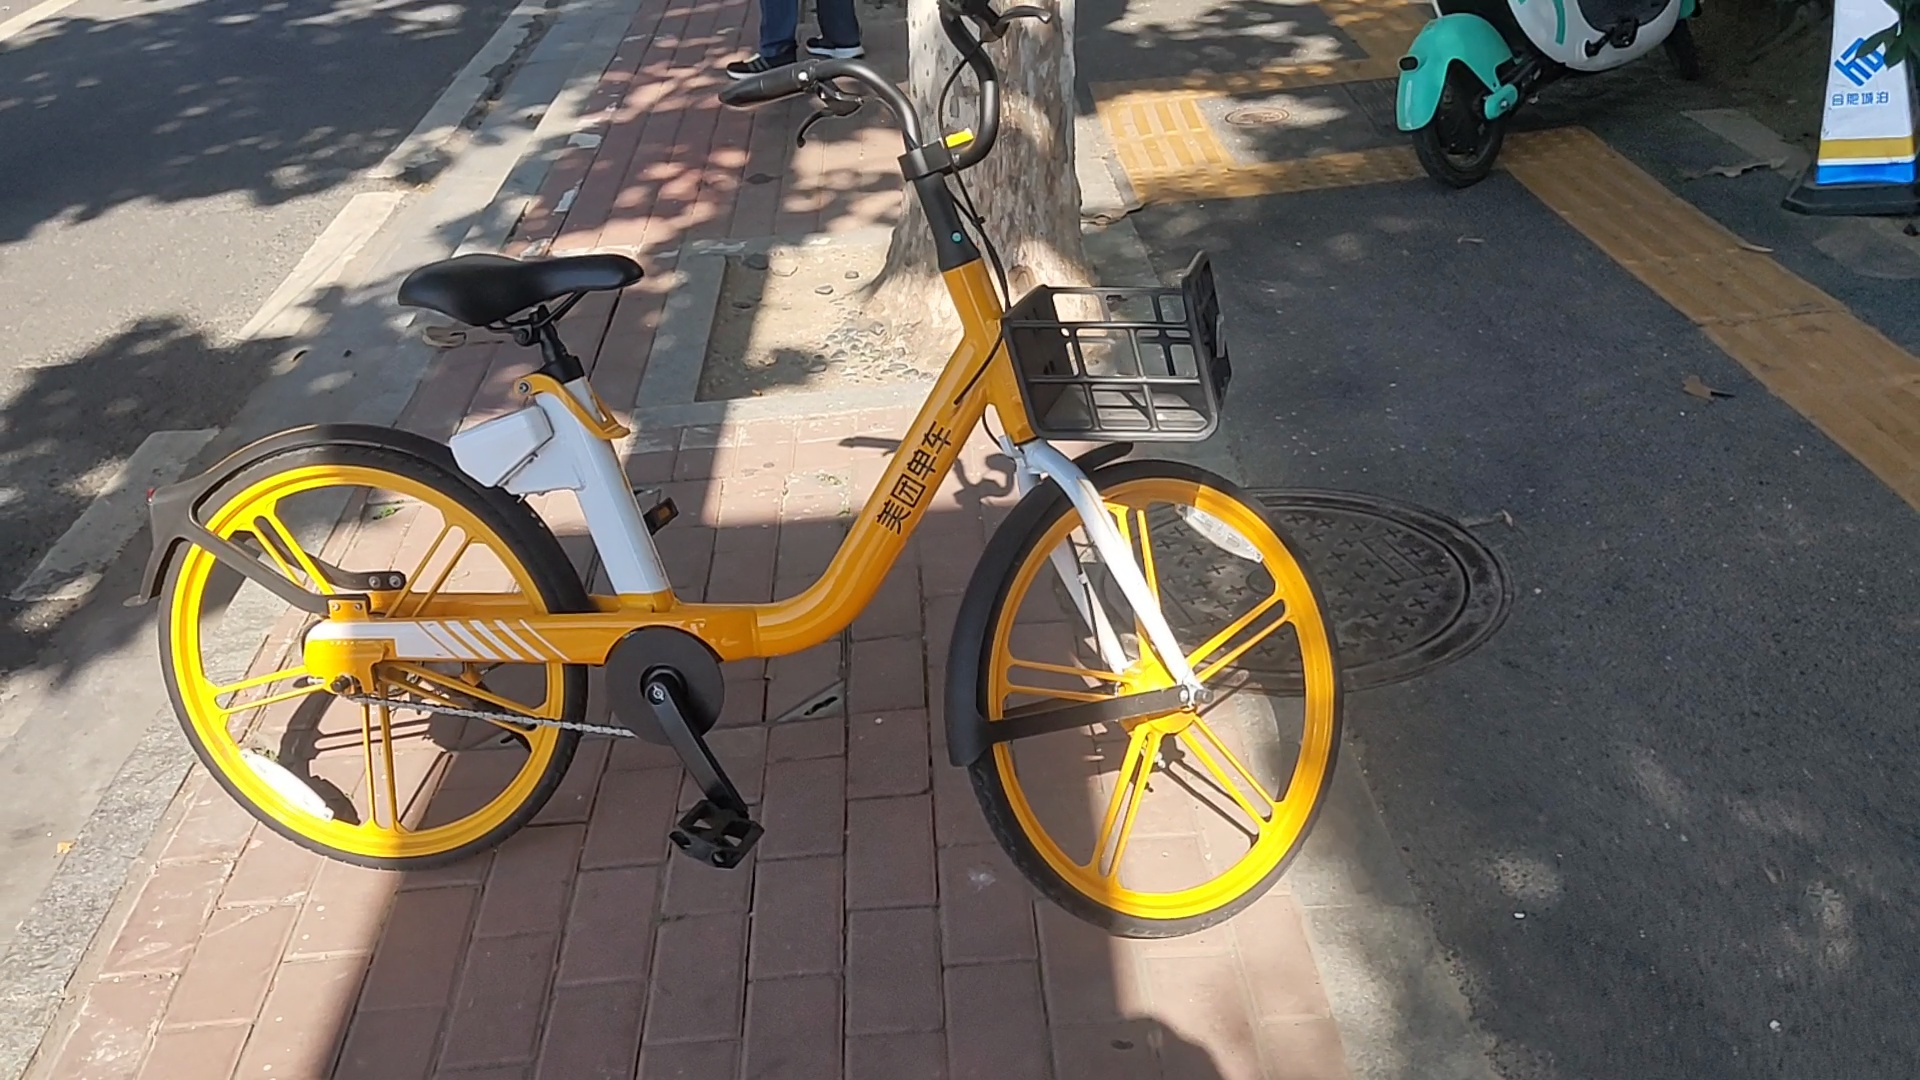non-vehicle: (120, 18, 1364, 949), (1360, 0, 1759, 193)
